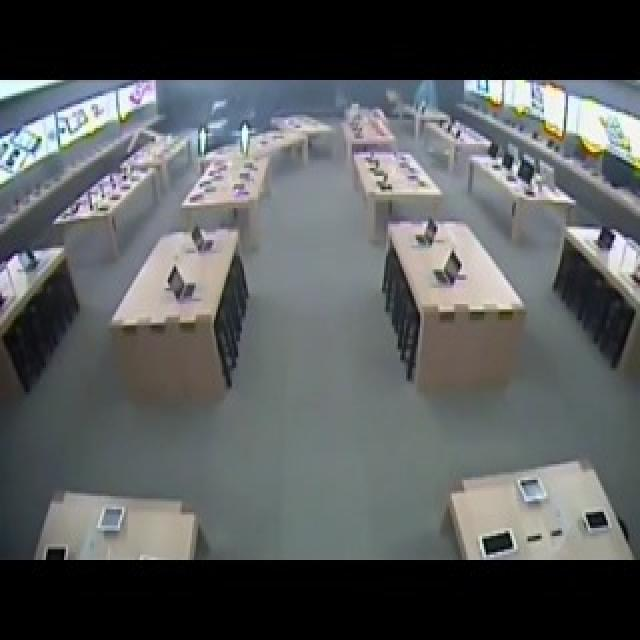burglary: (182, 96, 270, 177)
